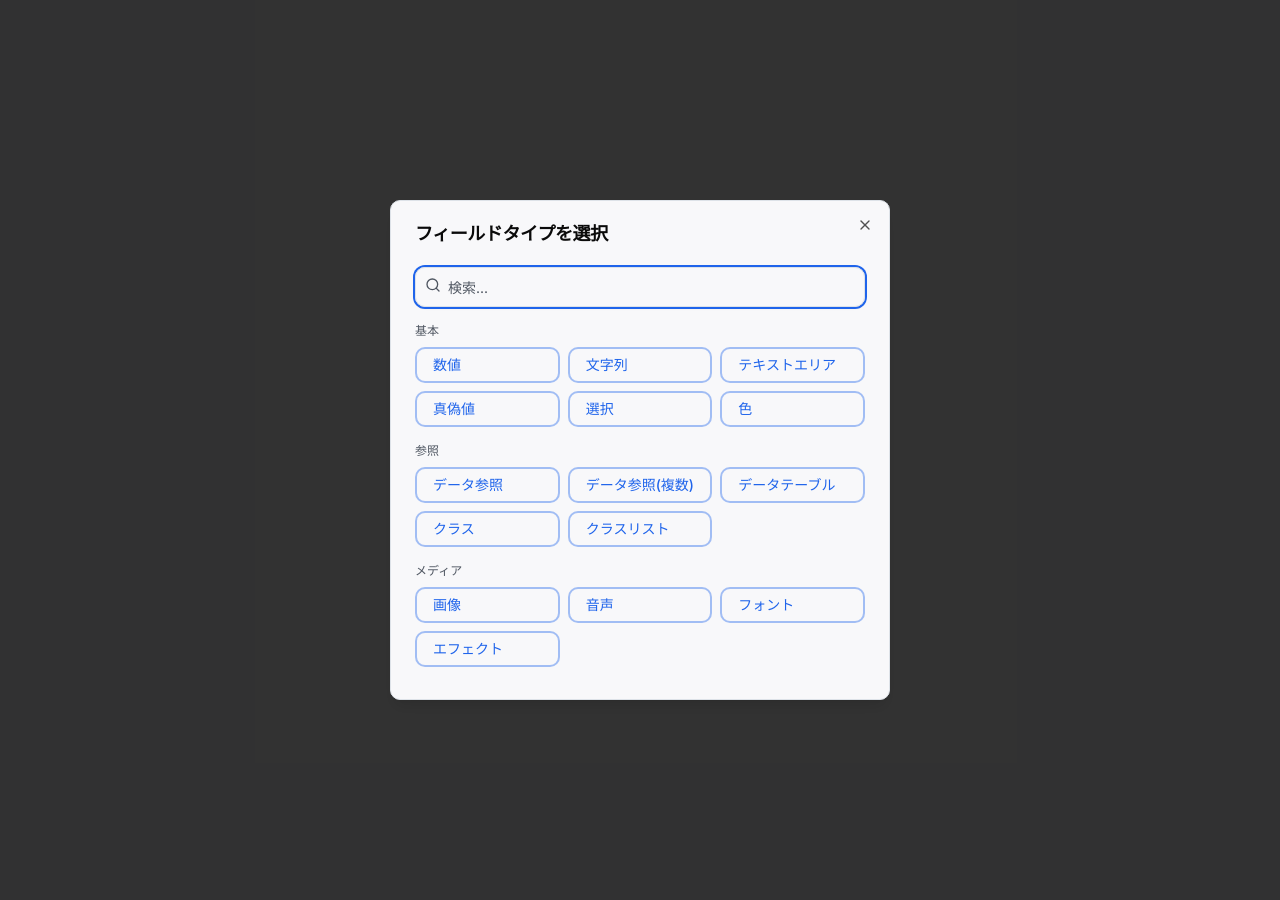
it: FieldTypeSelector › 検索結果がない場合メッセージが表示される
Type "xxxxxx" into the field with placeholder "検索..." at (640, 287), box [415, 267, 865, 307]
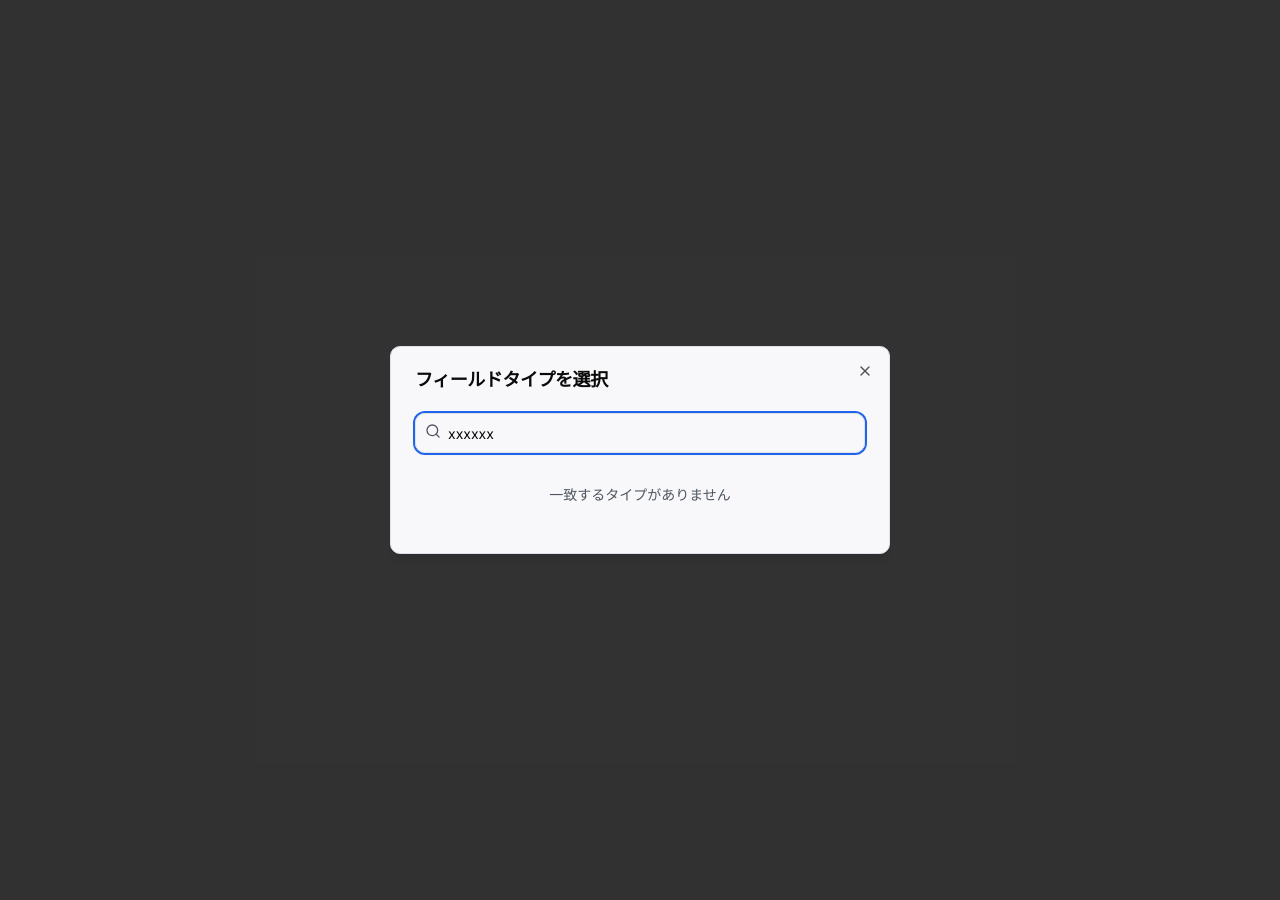
Expected: the text "一致するタイプがありません" is shown, [549, 486, 731, 503]
